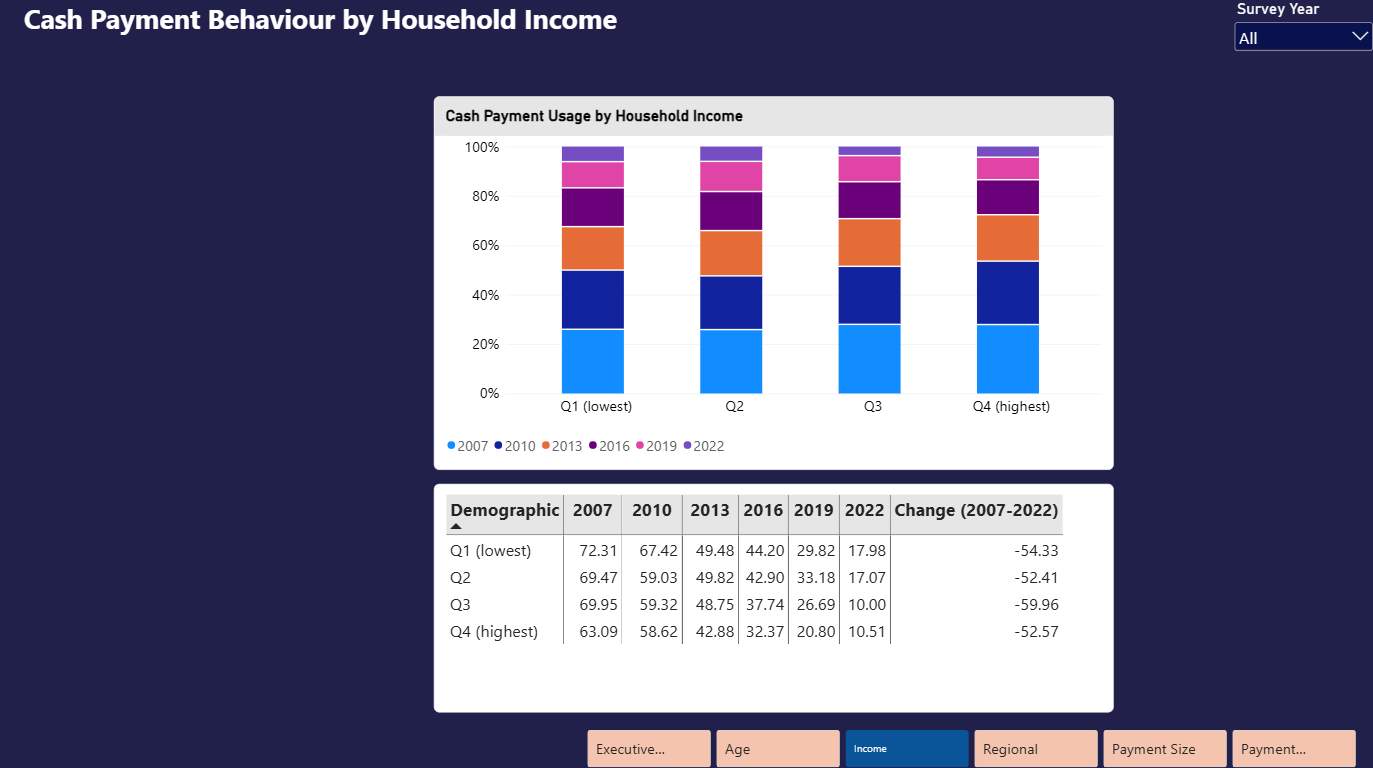

This screenshot's page, from the dashboard's own definition file:
{"tool":"powerbi","page":{"name":"Income","canvas":[1920,1080],"ordinal":2},"visuals":[{"type":"clusteredColumnChart","title":"Cash Payment Usage by Household Income: 2007 vs 2022","fields":{"Category":["Income.Demographic"],"Series":["Income.Survey Year"],"Y":["Avg(Income.Payment Share)"]},"box":[33.1,108.1,949.7,540],"z":0},{"type":"tableEx","fields":{"Values":["Income.Demographic","Income.2007","Income.2010","Income.2013","Income.2016","Income.2019","Income.2022","Income.Change (2007-2022)"]},"box":[32.9,675.1,948.8,319.2],"z":1000},{"type":"textbox","box":[33.6,0,1046.1,108],"z":2001},{"type":"pageNavigator","box":[819.9,1018.4,1076.7,52.5],"z":2002},{"type":"slicer","fields":{"Values":["Income.Survey Year"]},"box":[1173.2,109.1,238.8,331.4],"z":2003}]}

Visuals, with their boxes in screenshot pixels (x1, y1, x2, y2), scaled from the page's 1920x1080 canvas onto the 1373x768 screenshot:
"Cash Payment Usage by Household Income: 2007 vs 2022" clusteredColumnChart: 24:77:703:461
tableEx - Income.Demographic x Income.2007: 24:480:702:707
textbox: 24:0:772:77
pageNavigator: 586:724:1356:762
slicer - Income.Survey Year: 839:78:1010:313
